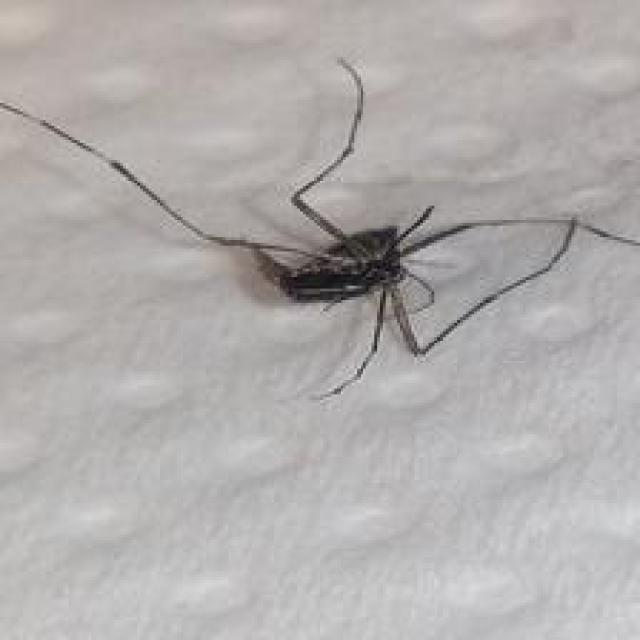Aedes albopictus: (0, 53, 640, 401)
